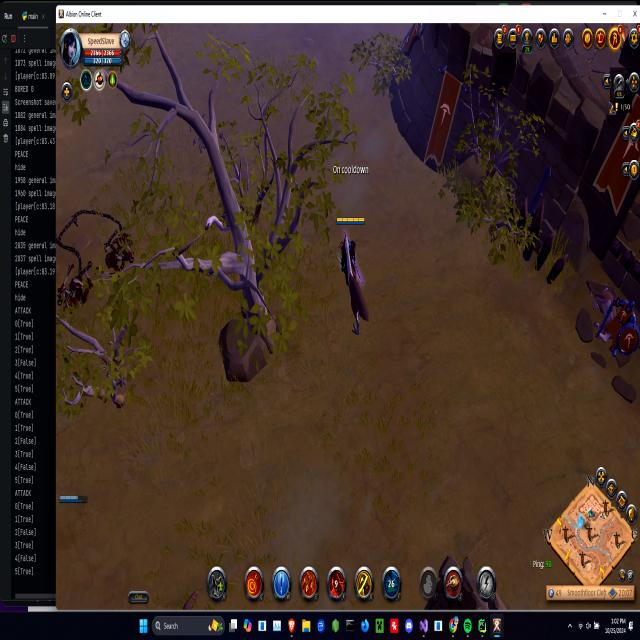mob: (590, 274, 618, 348)
ore: (340, 229, 372, 344)
red: (335, 211, 365, 283), (57, 491, 87, 506)
